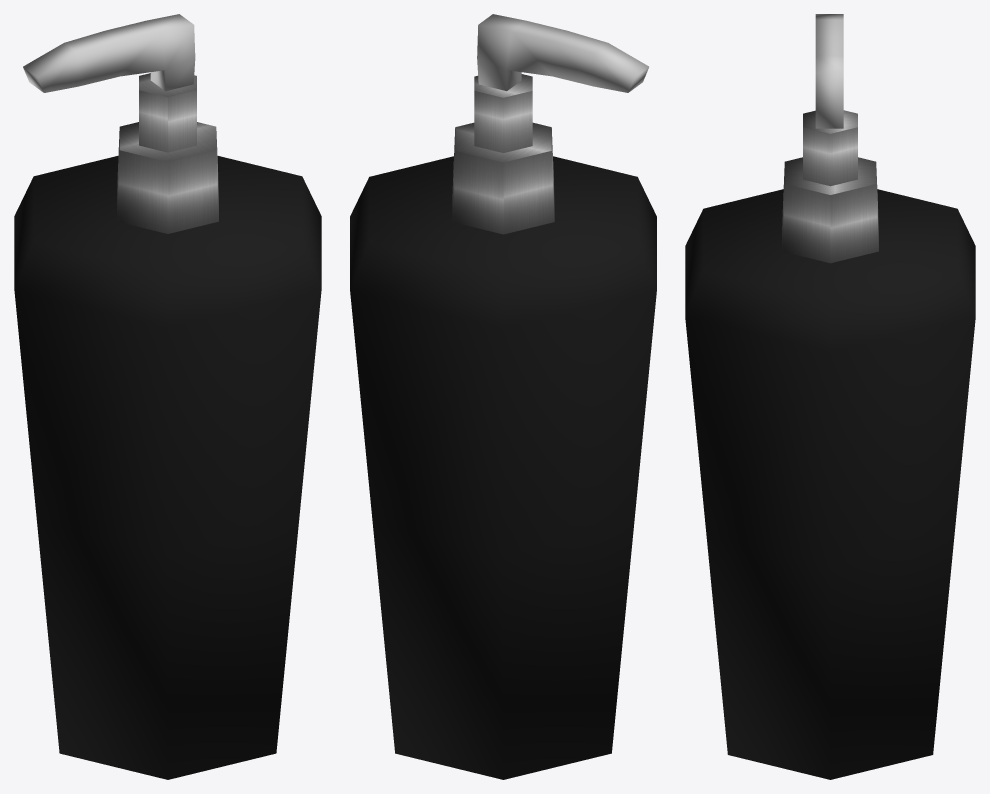
File: Soap_Dispenser_A.FBX
3 views of the same model, side by side, from view 1: azimuth 30°, elevation 25°; view 2: azimuth 150°, elevation 25°; view 3: azimuth 270°, elevation 25° (orthographic). The views are drawn at different scales.
Visible parts, largest first — view 1: Soap_Dispenser; view 2: Soap_Dispenser; view 3: Soap_Dispenser.
Boxes of the visible parts, <box> form: Soap_Dispenser: <box>14,14,321,779</box>; Soap_Dispenser: <box>350,14,656,779</box>; Soap_Dispenser: <box>685,14,975,779</box>.
Bounding box in the file's own units: 18.48 × 40.55 × 16.01.
